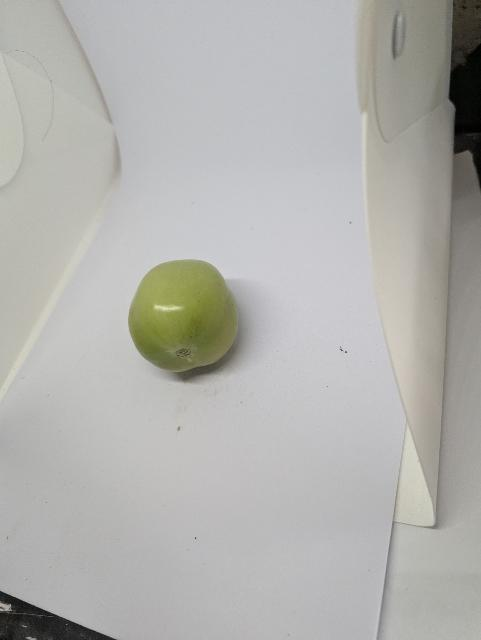green: (113, 251, 266, 391)
